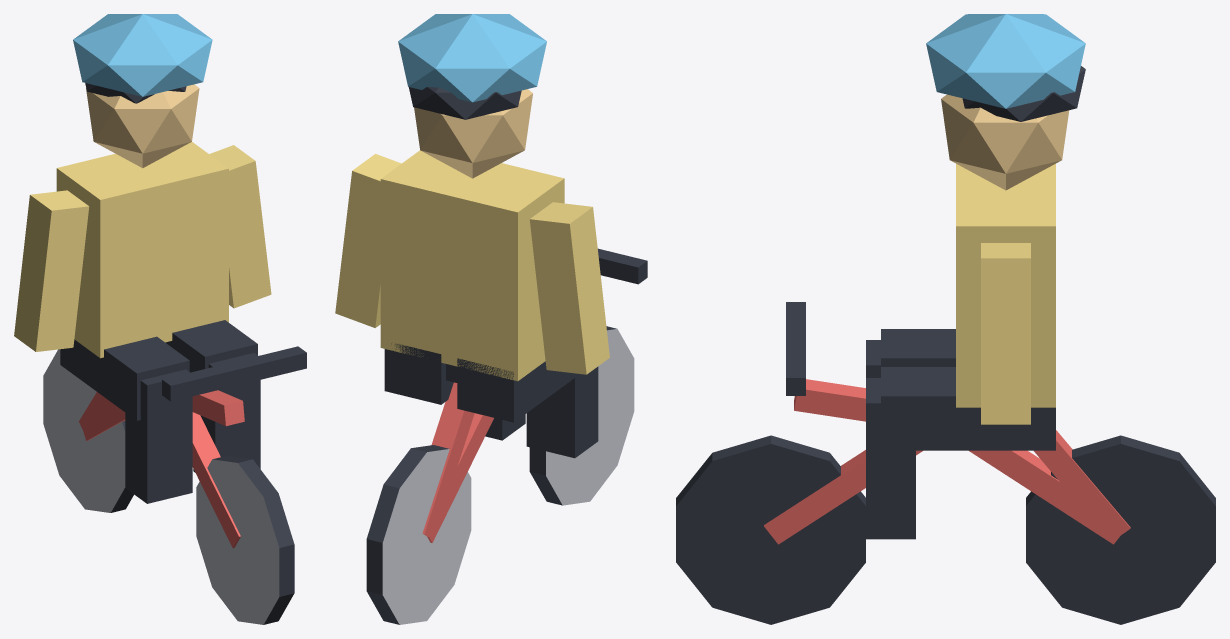
File: people_cyclist.glb
The picture shows the model from 3 angles, left to right: view 1: azimuth 30°, elevation 25°; view 2: azimuth 150°, elevation 25°; view 3: azimuth 270°, elevation 25°; orthographic projection. The views are drawn at different scales.
Parts seen in each view (by area): view 1: people_cyclist; view 2: people_cyclist; view 3: people_cyclist.
Boxes of the visible parts, x1,y1,x2,y2 form: people_cyclist: (14,14,306,624); people_cyclist: (335,14,647,624); people_cyclist: (676,14,1215,624).
Bounding box in the file's own units: 0.0623 × 0.134 × 0.108.
